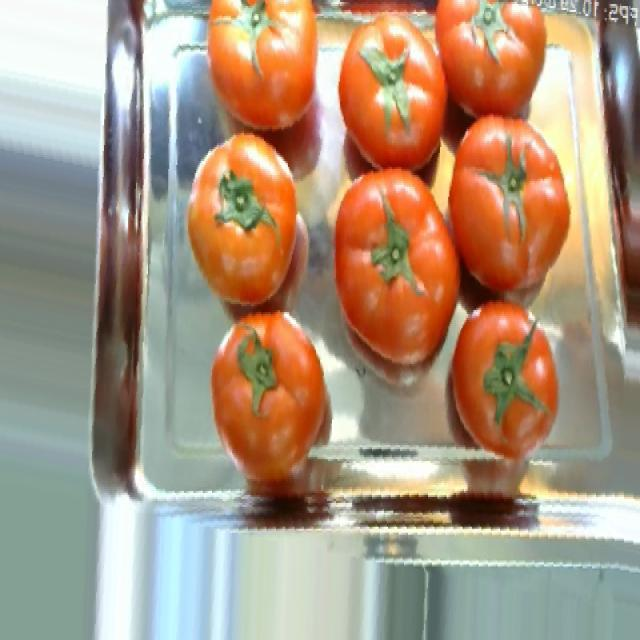sari: (182, 118, 530, 402)
